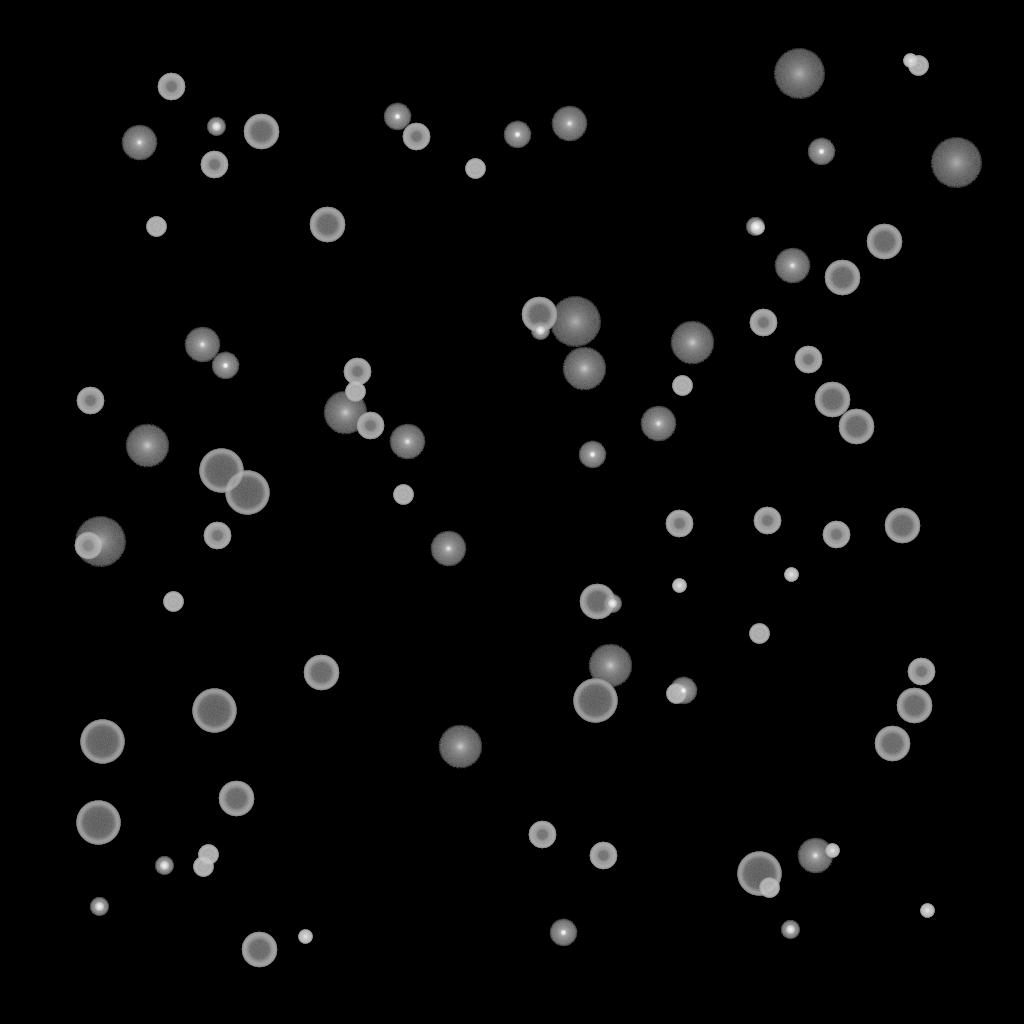depth:-10: (669, 677, 697, 705), (578, 441, 606, 469), (383, 103, 411, 131), (211, 352, 239, 380), (549, 919, 577, 947), (503, 121, 531, 149), (807, 138, 835, 166)
depth:-20: (746, 218, 764, 236), (531, 322, 549, 340), (90, 898, 108, 916), (207, 118, 225, 136), (603, 595, 621, 613), (155, 857, 173, 875), (781, 921, 799, 939)
depth:-30: (298, 930, 312, 944), (903, 54, 917, 68), (672, 579, 686, 593), (784, 568, 798, 582), (750, 221, 764, 235), (920, 904, 934, 918), (825, 844, 839, 858)
depth:-40: (759, 878, 779, 898), (193, 857, 213, 877), (666, 684, 686, 704), (146, 217, 166, 237), (198, 845, 218, 865), (749, 624, 769, 644), (465, 159, 485, 179), (163, 592, 183, 612), (672, 376, 692, 396), (908, 56, 928, 76), (345, 382, 365, 402), (393, 485, 413, 505)
depth:-50: (822, 521, 850, 549), (907, 658, 935, 686), (665, 510, 693, 538), (589, 842, 617, 870), (749, 309, 777, 337), (528, 821, 556, 849), (157, 73, 185, 101), (74, 532, 102, 560), (343, 358, 371, 386), (200, 151, 228, 179), (794, 346, 822, 374), (402, 123, 430, 151), (356, 412, 384, 440), (753, 507, 781, 535), (203, 522, 231, 550), (76, 387, 104, 415)
depth:-60: (521, 297, 557, 333), (824, 260, 860, 296), (874, 726, 910, 762), (838, 409, 874, 445), (814, 382, 850, 418), (243, 114, 279, 150), (241, 932, 277, 968), (579, 584, 615, 620), (866, 224, 902, 260), (896, 688, 932, 724), (309, 207, 345, 243), (218, 781, 254, 817), (884, 508, 920, 544), (303, 655, 339, 691)
depth:-70: (199, 449, 243, 493), (80, 720, 124, 764), (192, 689, 236, 733), (573, 679, 617, 723), (225, 471, 269, 515), (737, 852, 781, 896), (76, 801, 120, 845)
depth:0: (551, 106, 587, 142), (389, 424, 425, 460), (121, 125, 157, 161), (184, 327, 220, 363), (797, 838, 833, 874), (640, 406, 676, 442), (430, 531, 466, 567), (774, 248, 810, 284)
depth:10: (125, 424, 169, 468), (323, 391, 367, 435), (588, 644, 632, 688), (670, 321, 714, 365), (438, 725, 482, 769), (562, 347, 606, 391)
depth:20: (930, 138, 982, 188), (773, 49, 825, 99), (549, 297, 601, 347), (74, 517, 126, 567)
